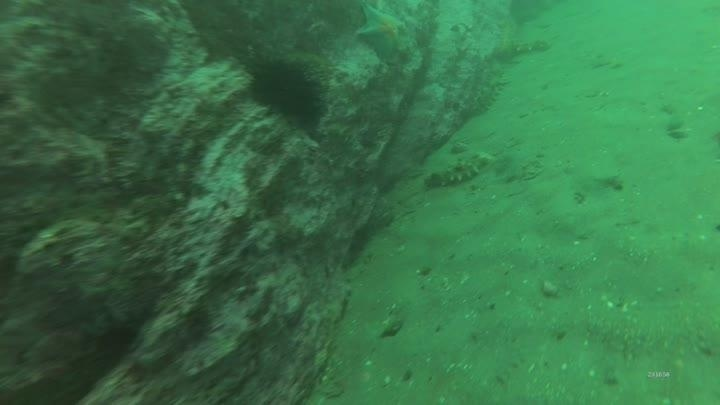echinus: (245, 54, 328, 130)
holothurian: (420, 147, 498, 191), (471, 65, 507, 114), (495, 17, 521, 60), (502, 36, 551, 57)
starfish: (353, 2, 409, 65)
